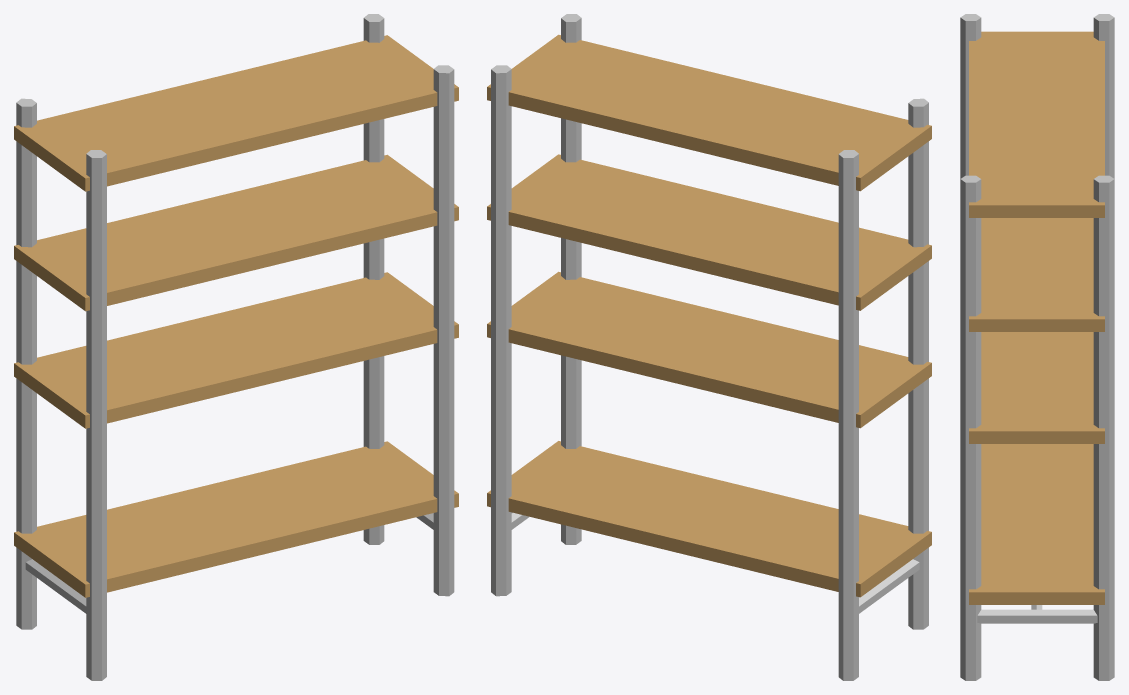
The model's file is etagere.fbx.
The picture shows the model from 3 angles, left to right: view 1: azimuth 30°, elevation 25°; view 2: azimuth 150°, elevation 25°; view 3: azimuth 270°, elevation 25°; orthographic projection. The views are drawn at different scales.
Parts seen in each view (by area): view 1: Cube.002; view 2: Cube.002; view 3: Cube.002.
Part boxes in pixels (x1,y1,x2,y2): Cube.002: [14, 14, 458, 680]; Cube.002: [487, 14, 931, 680]; Cube.002: [960, 14, 1114, 680].
Bounding box in the file's own units: 273 × 365 × 102.
